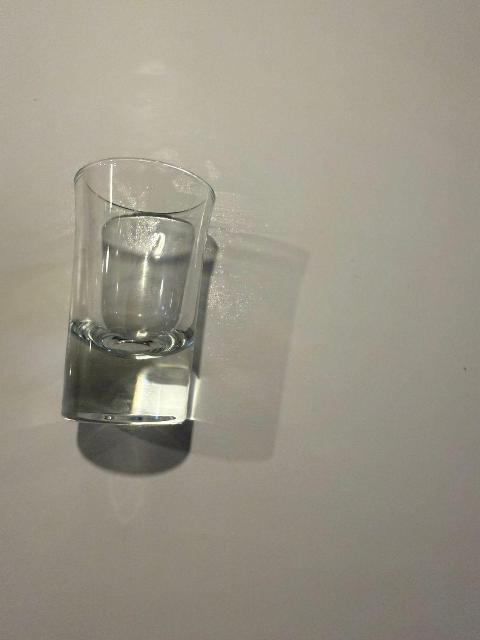Cam: (47, 150, 238, 435)
